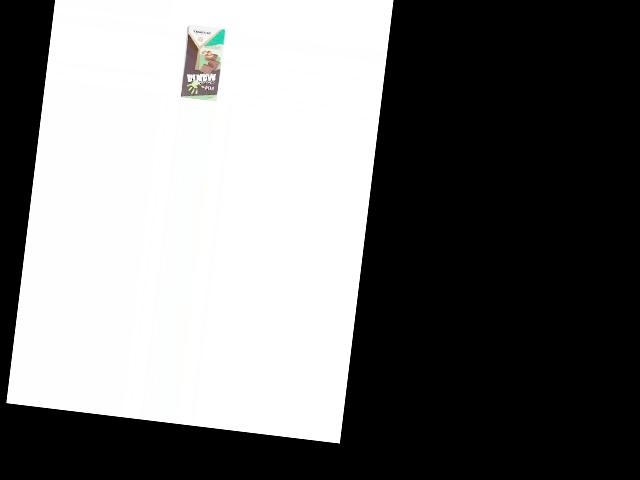chocolate: (178, 23, 227, 103)
